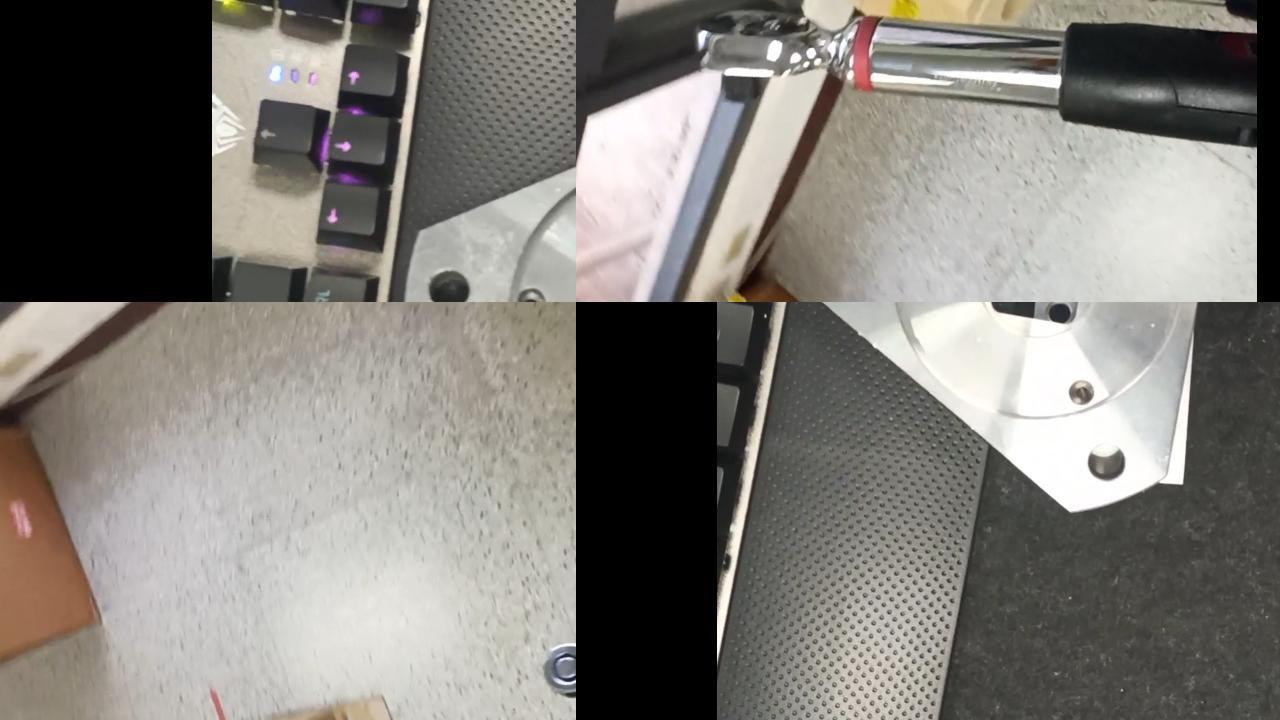Tool: (696, 0, 850, 102), (539, 640, 576, 698)
